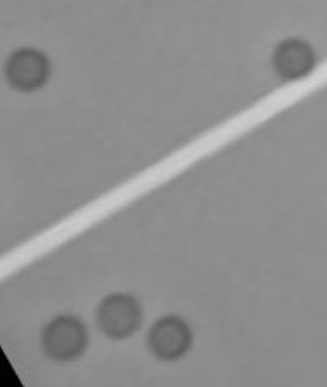cell: (34, 308, 91, 366), (141, 307, 197, 365), (91, 286, 146, 344), (266, 28, 320, 85), (2, 41, 53, 97)
